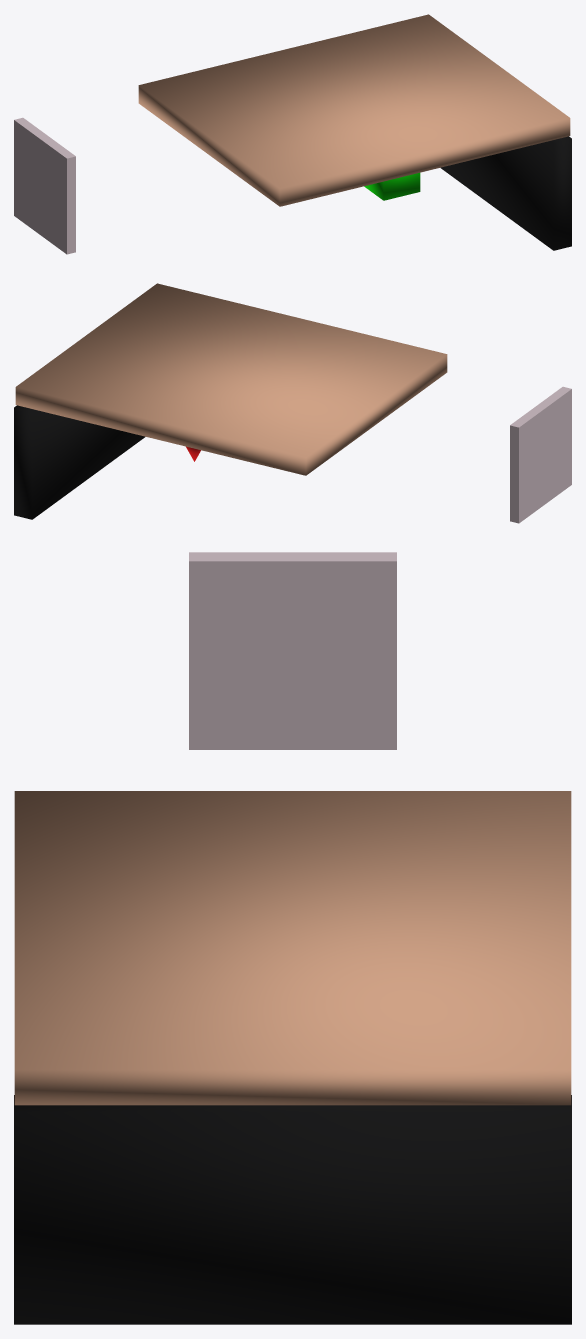
3 views of the same model, one above another, from view 1: azimuth 30°, elevation 25°; view 2: azimuth 150°, elevation 25°; view 3: azimuth 270°, elevation 25° (orthographic). The views are drawn at different scales.
Visible parts, largest first — view 1: Cube.001, Cube.002, Cube_Cube.003, Cube.001.000; view 2: Cube.001, Cube.002, Cube_Cube.003; view 3: Cube.001, Cube.002, Cube_Cube.003.
Part boxes in pixels (left/top/right/bottom): Cube.001: left=138, top=14, right=570, bottom=206; Cube.002: left=440, top=136, right=571, bottom=250; Cube_Cube.003: left=14, top=117, right=75, bottom=254; Cube.001.000: left=364, top=172, right=420, bottom=200; Cube.001: left=15, top=283, right=447, bottom=475; Cube.002: left=14, top=405, right=145, bottom=519; Cube_Cube.003: left=510, top=386, right=571, bottom=523; Cube.001: left=14, top=791, right=571, bottom=1105; Cube.002: left=14, top=1095, right=571, bottom=1324; Cube_Cube.003: left=189, top=552, right=396, bottom=749.
Bounding box in the file's own units: 50.23 × 17.47 × 26.78.
